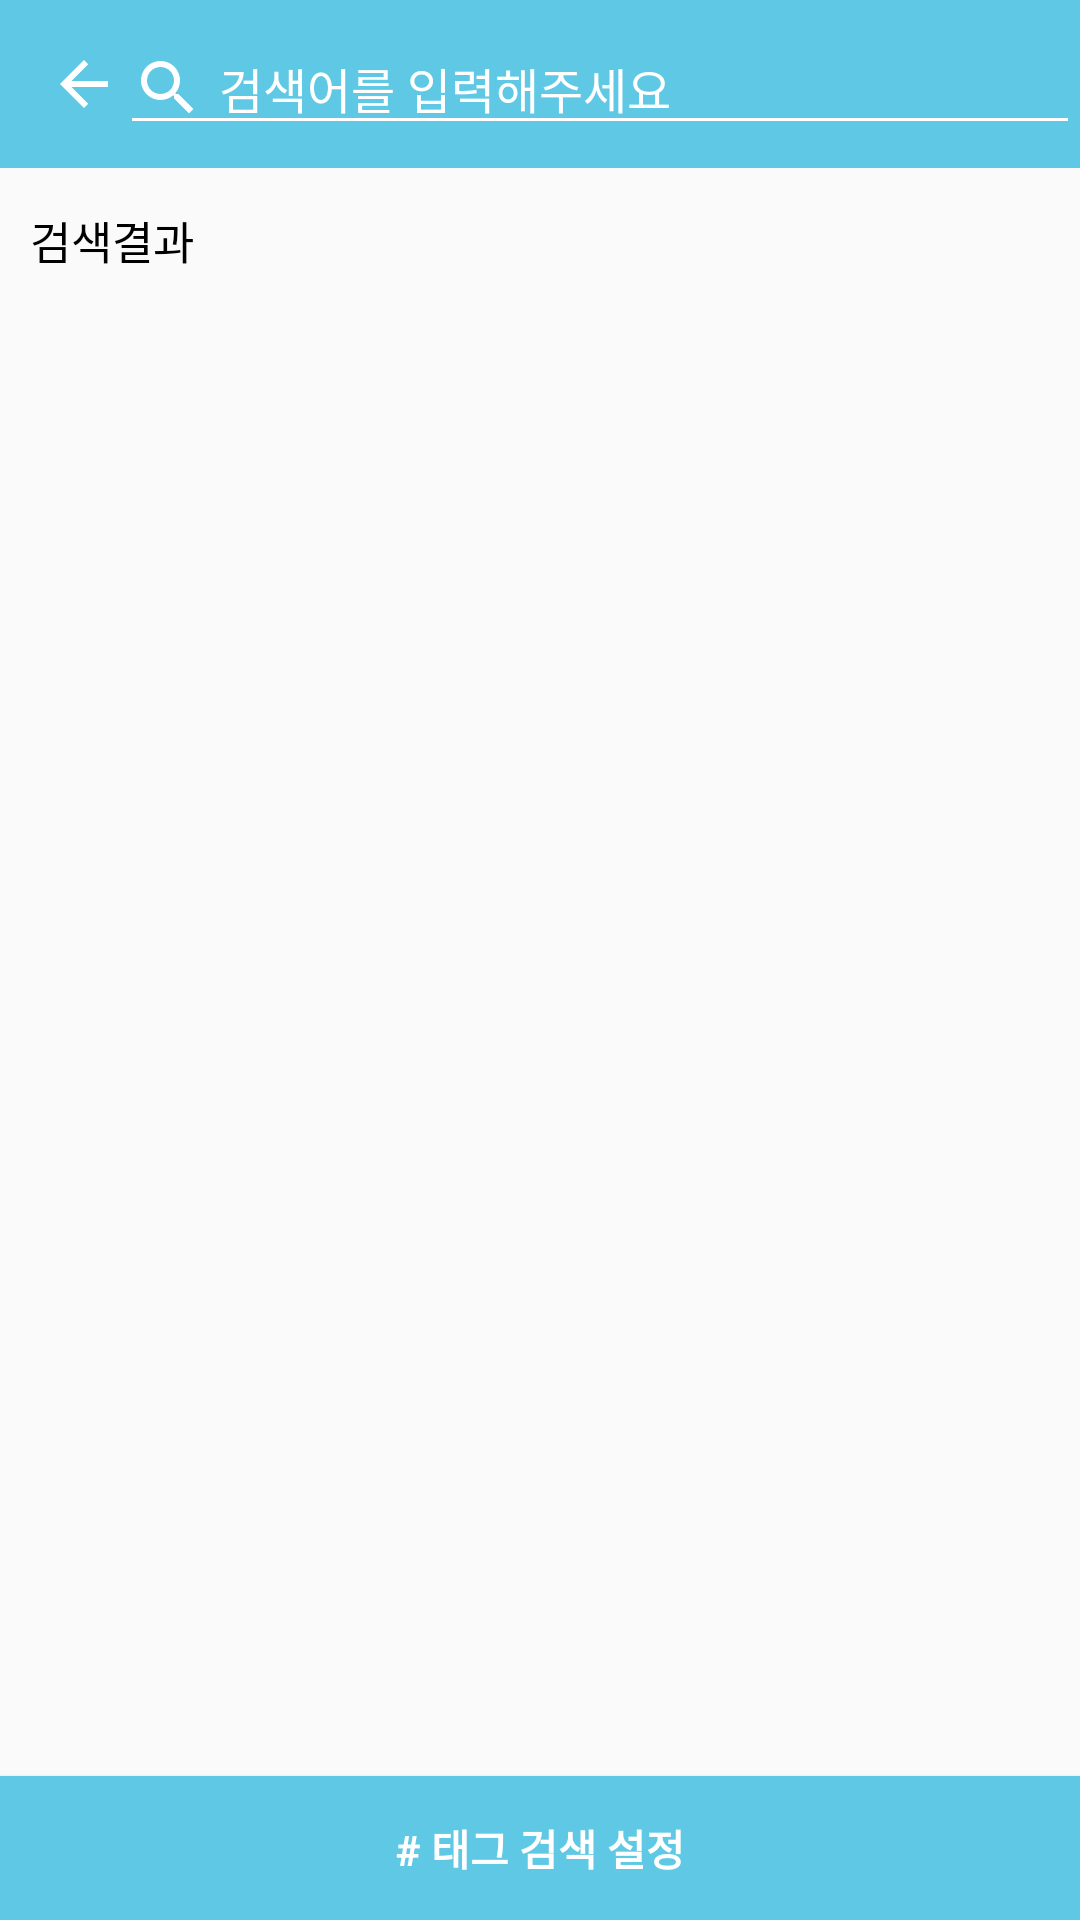

Point at icon controls on the screen. Image size 1080×1920, points as [x,y].
arrow back: [84,84]
